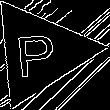P_N: (17, 25, 63, 79)
